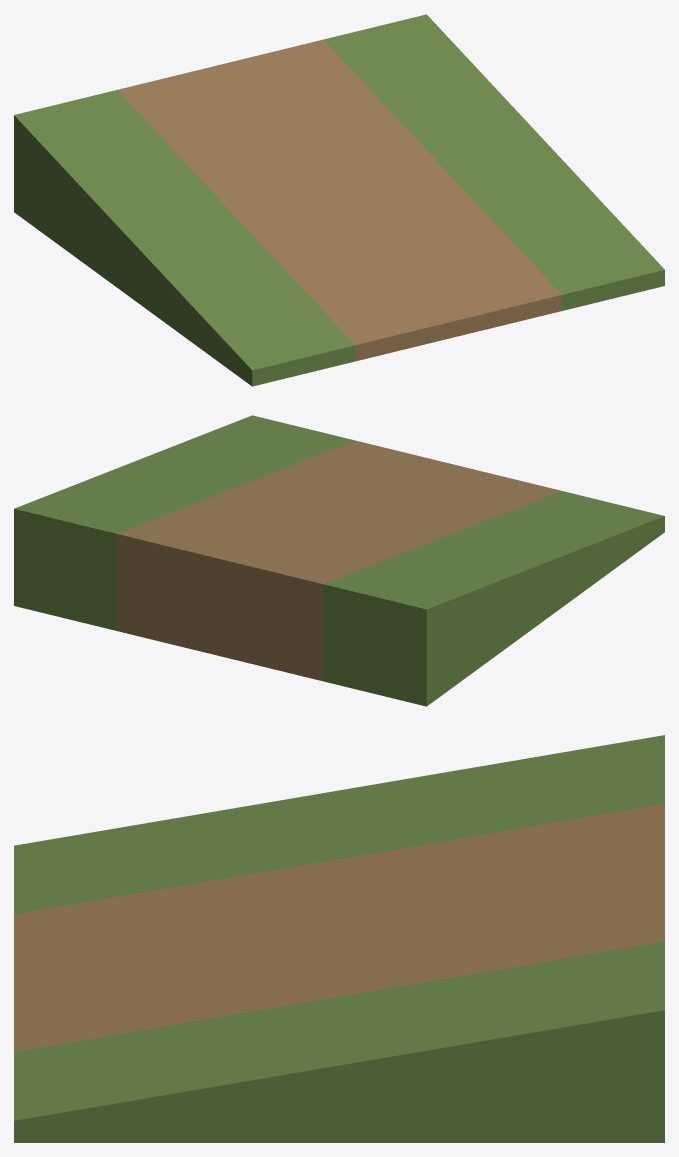
File: Road_1Lane_Dirt_NoSidewalk_Slope_Down_8m.glb
The picture shows the model from 3 angles, top to bottom: view 1: azimuth 30°, elevation 25°; view 2: azimuth 150°, elevation 25°; view 3: azimuth 270°, elevation 25°; orthographic projection. The views are drawn at different scales.
Parts seen in each view (by area): view 1: Road_1Lane_Dirt_NoSidewalk_Slope_Down_8m_Grass-edge, Road_1Lane_Dirt_NoSidewalk_Slope_Down_8m_Dirt; view 2: Road_1Lane_Dirt_NoSidewalk_Slope_Down_8m_Grass-edge, Road_1Lane_Dirt_NoSidewalk_Slope_Down_8m_Dirt; view 3: Road_1Lane_Dirt_NoSidewalk_Slope_Down_8m_Grass-edge, Road_1Lane_Dirt_NoSidewalk_Slope_Down_8m_Dirt.
Part boxes in pixels (<box>): Road_1Lane_Dirt_NoSidewalk_Slope_Down_8m_Grass-edge: <box>14,14,664,386</box>; Road_1Lane_Dirt_NoSidewalk_Slope_Down_8m_Dirt: <box>117,39,561,361</box>; Road_1Lane_Dirt_NoSidewalk_Slope_Down_8m_Grass-edge: <box>14,415,664,706</box>; Road_1Lane_Dirt_NoSidewalk_Slope_Down_8m_Dirt: <box>117,440,561,681</box>; Road_1Lane_Dirt_NoSidewalk_Slope_Down_8m_Grass-edge: <box>14,735,664,1142</box>; Road_1Lane_Dirt_NoSidewalk_Slope_Down_8m_Dirt: <box>14,804,664,1051</box>.
Bounding box in the file's own units: 8 × 1.8 × 8.
